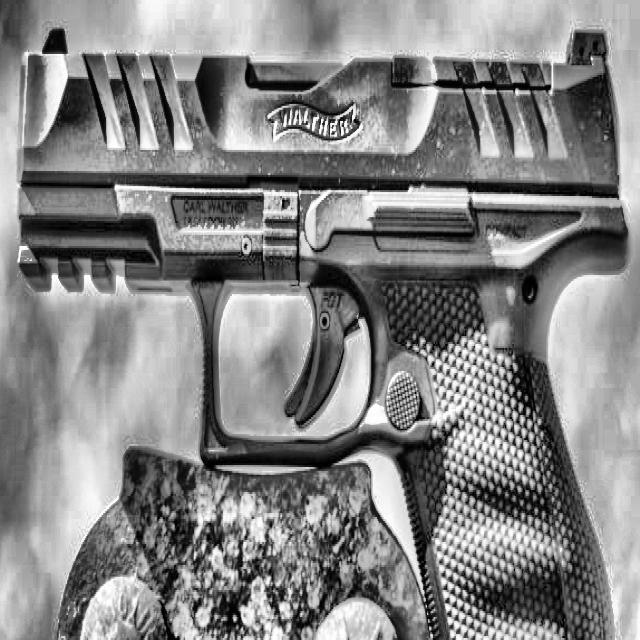Walther: (8, 17, 636, 640)
